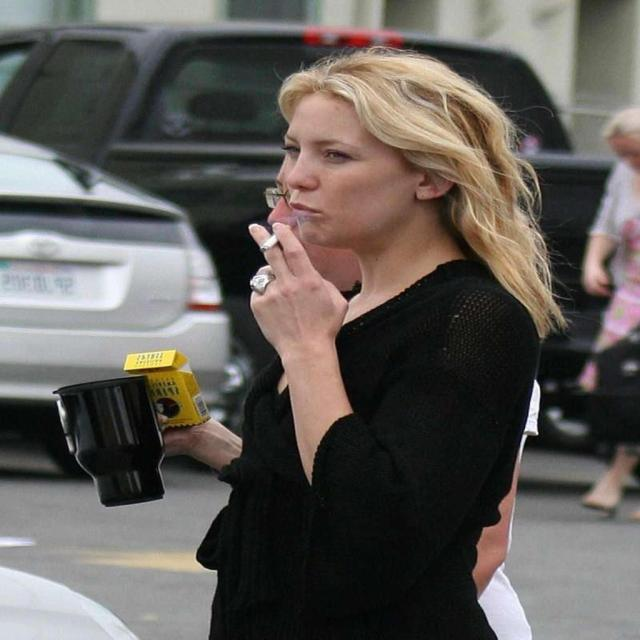smoking: (161, 34, 583, 332)
